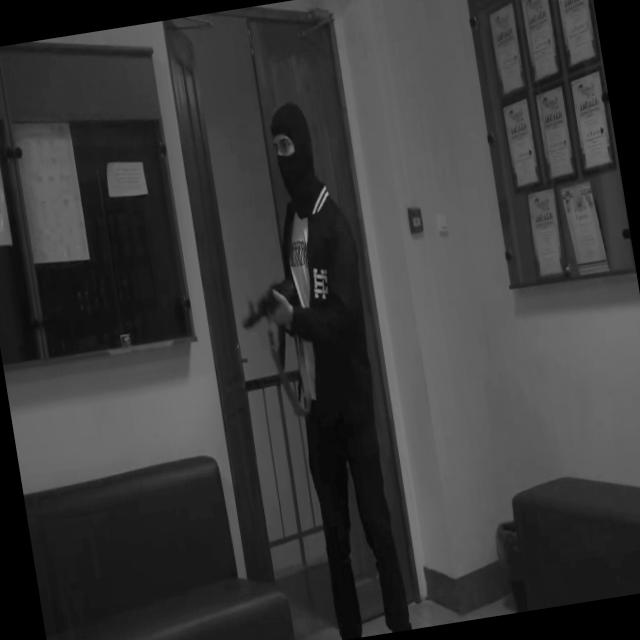gun: (235, 275, 310, 355)
person with a gun: (208, 95, 418, 640)
